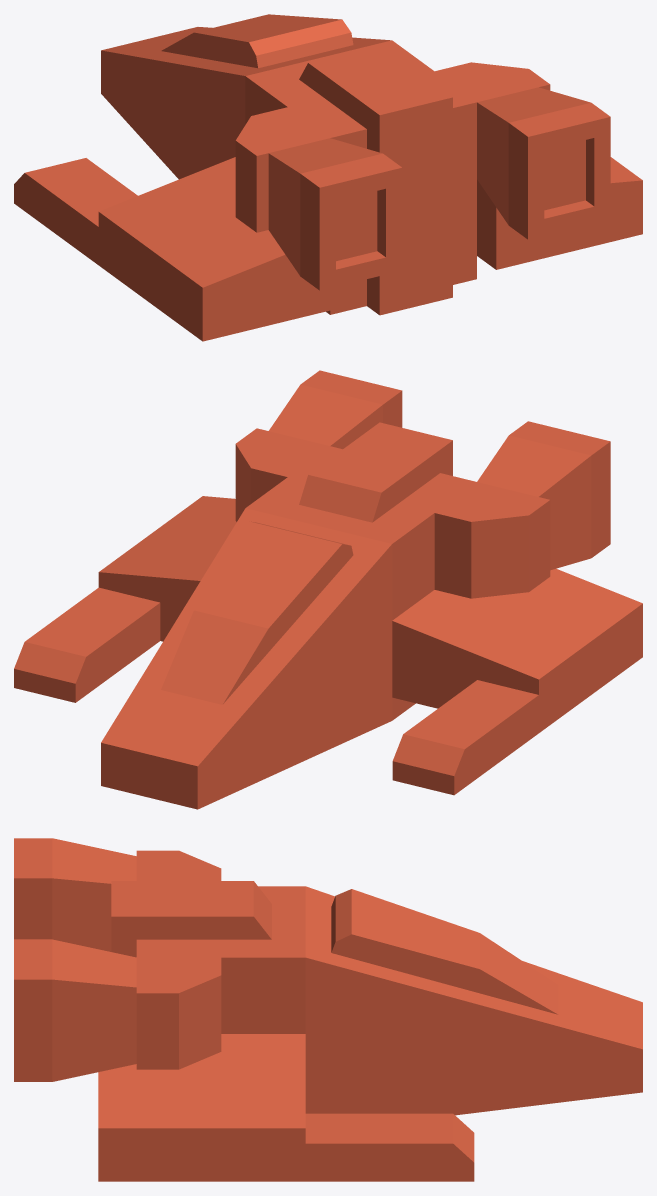
File: spacecraft3.glb
3 renders of one model, top to bottom at view 1: azimuth 30°, elevation 25°; view 2: azimuth 150°, elevation 25°; view 3: azimuth 270°, elevation 25°, orthographic.
Parts seen in each view (by area): view 1: spaceCraft3_8angles; view 2: spaceCraft3_8angles; view 3: spaceCraft3_8angles.
Boxes of the visible parts, x1=… form: spaceCraft3_8angles: x1=14, y1=14, x2=642, y2=341; spaceCraft3_8angles: x1=14, y1=370, x2=642, y2=809; spaceCraft3_8angles: x1=14, y1=838, x2=642, y2=1181.
Bounding box in the file's own units: 11.85 × 5.15 × 14.72.
